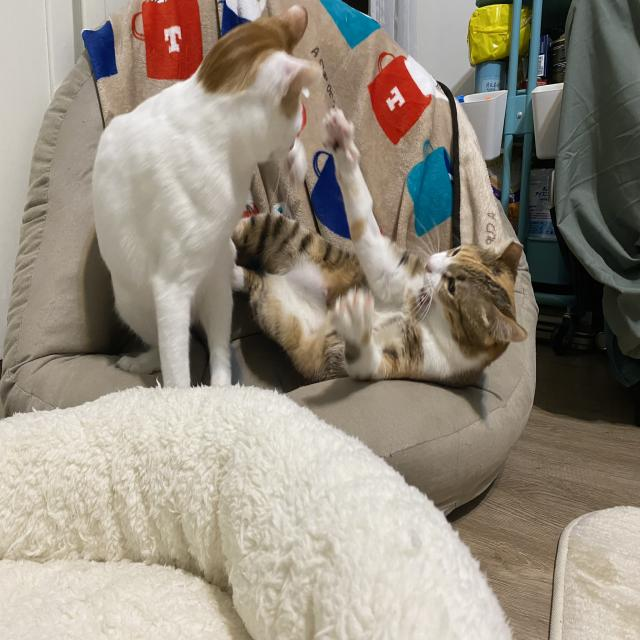cat1: (91, 5, 310, 382)
cat2: (252, 195, 526, 379)
